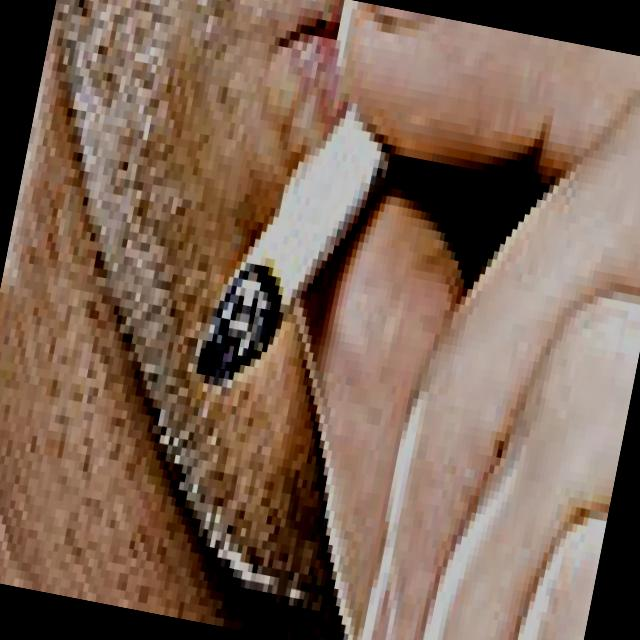smoke: (190, 34, 414, 424)
